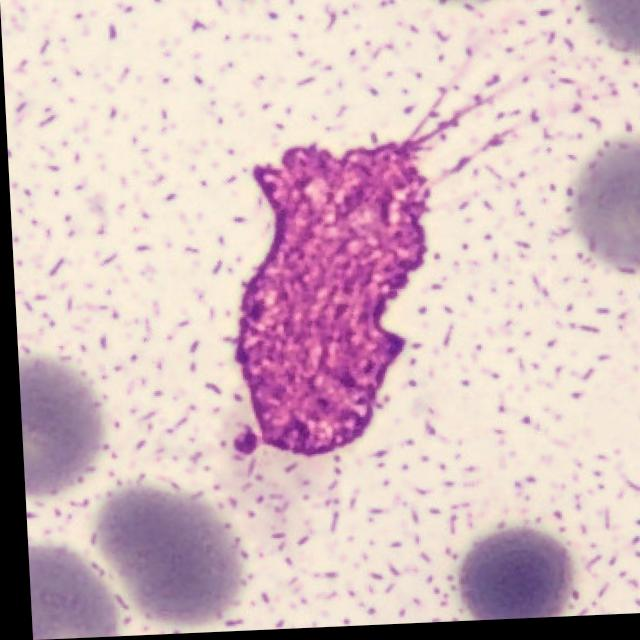Restos celulares: (231, 147, 429, 461)
